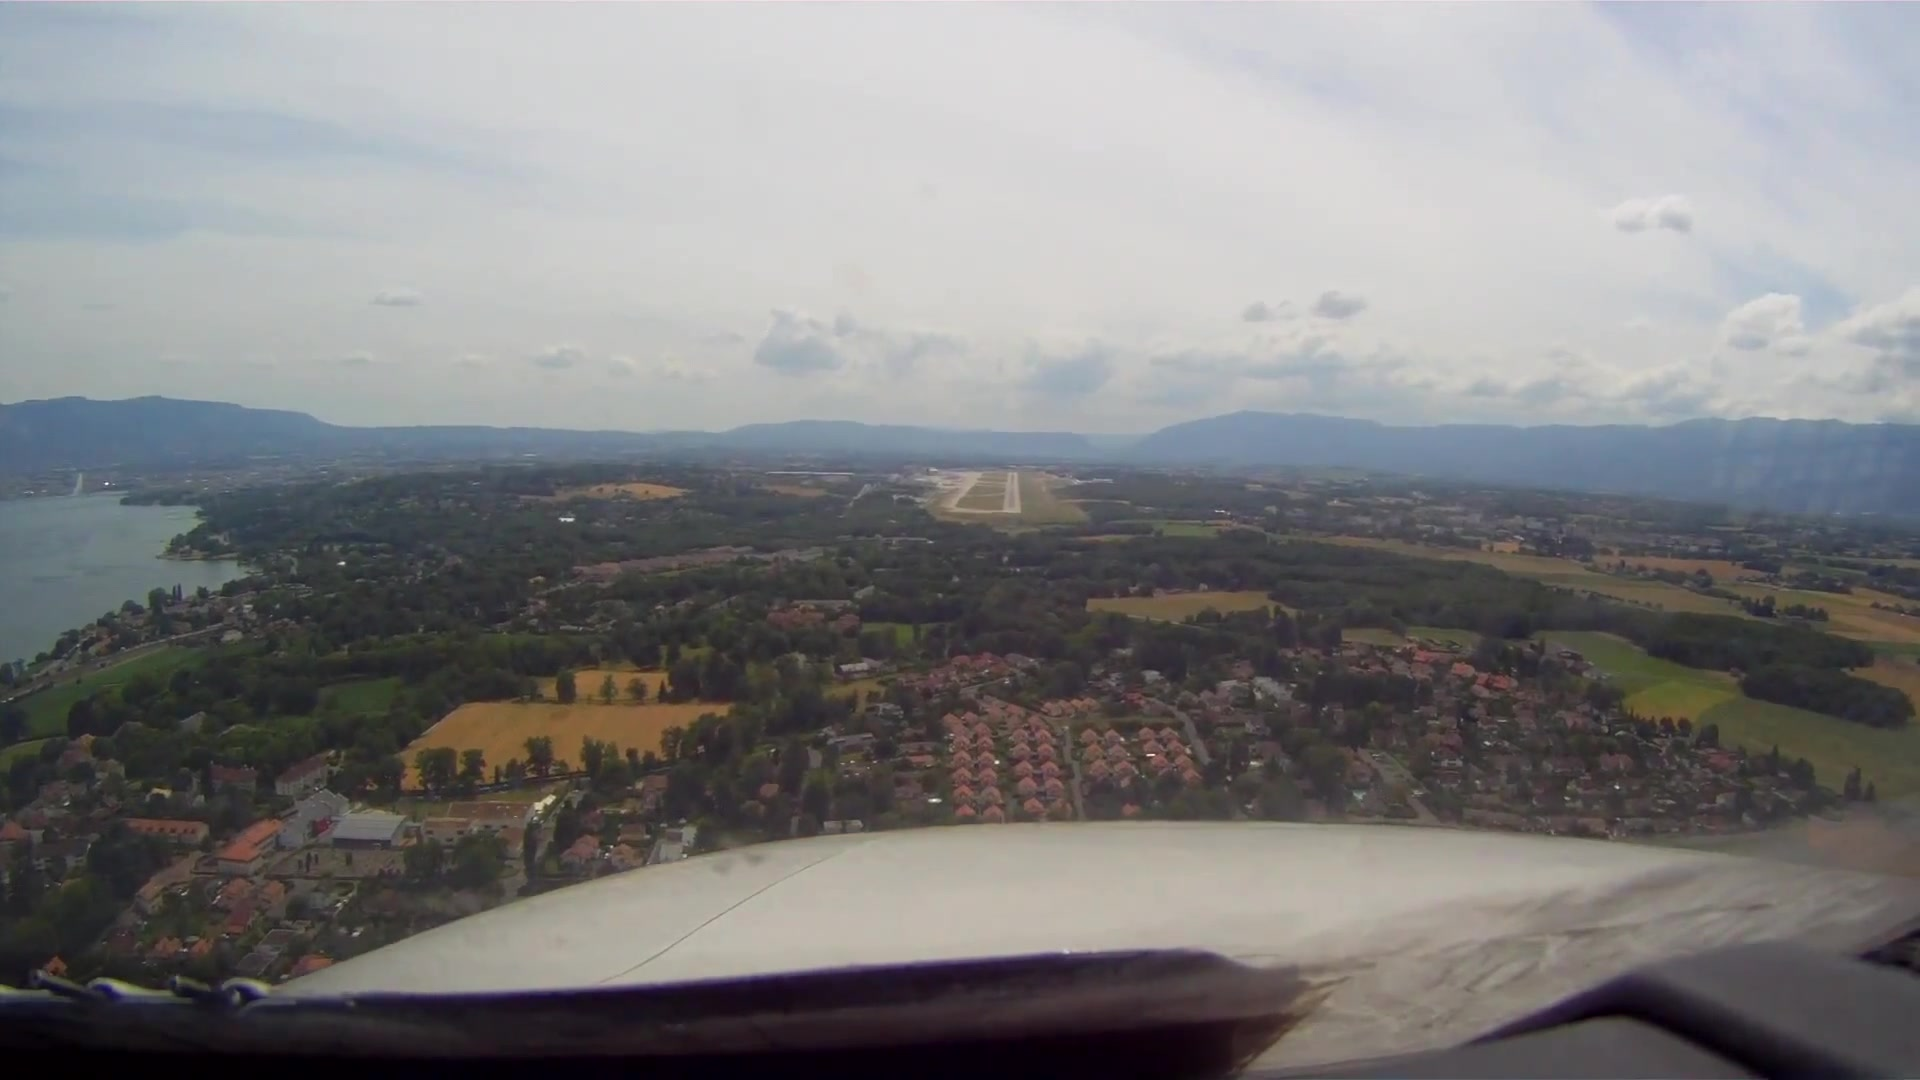runway: (1000, 469, 1023, 516)
